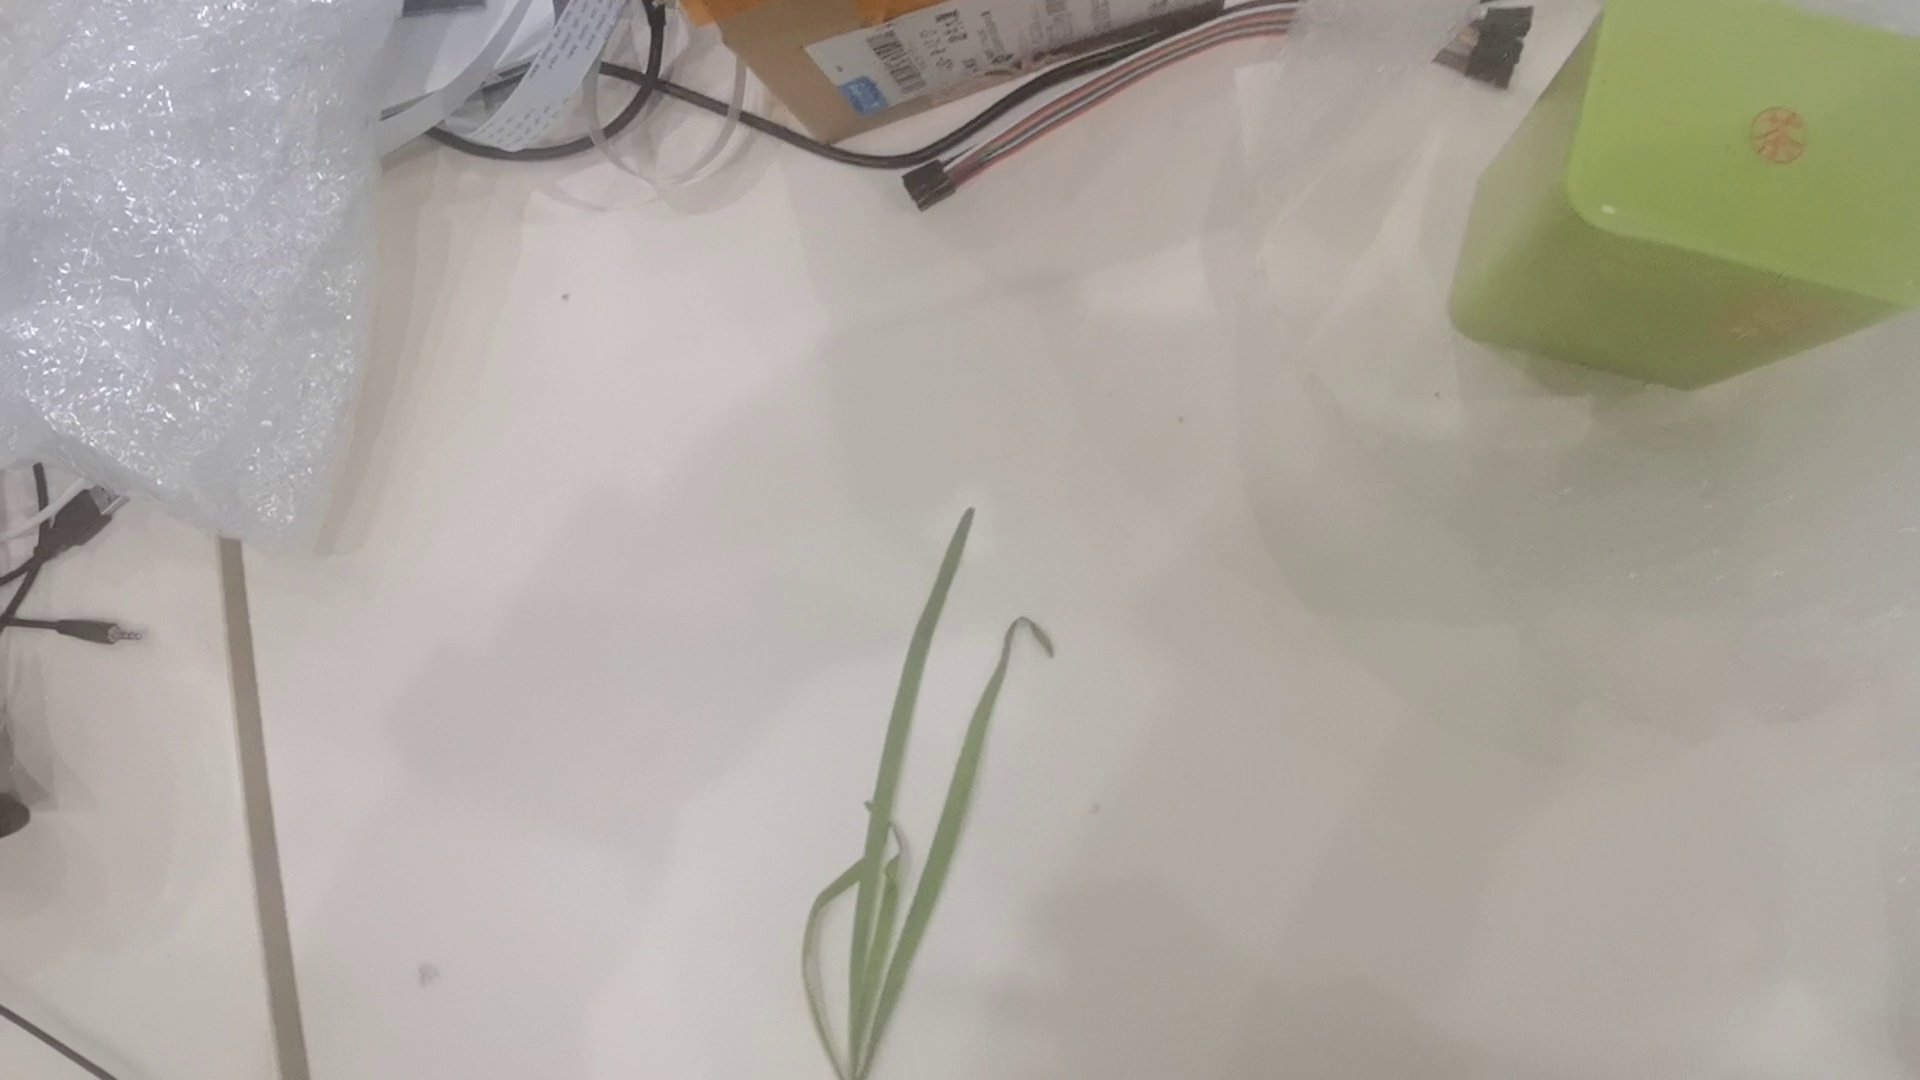chives: (800, 495, 1063, 1080)
